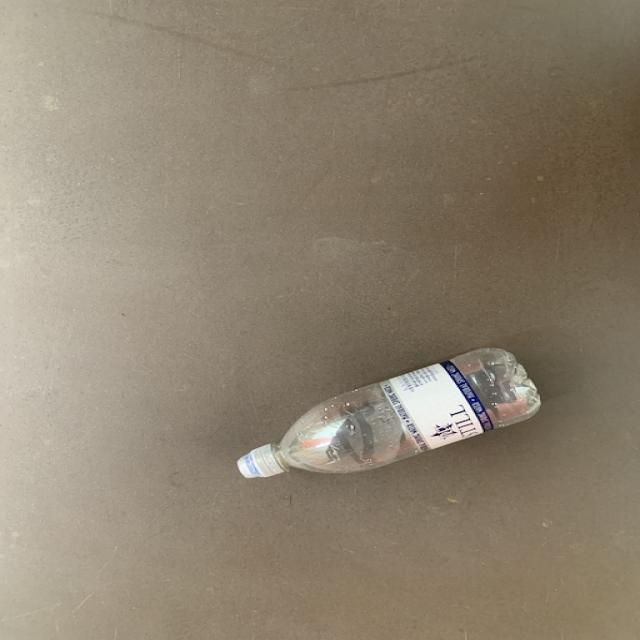Waste: (238, 349, 542, 479)
